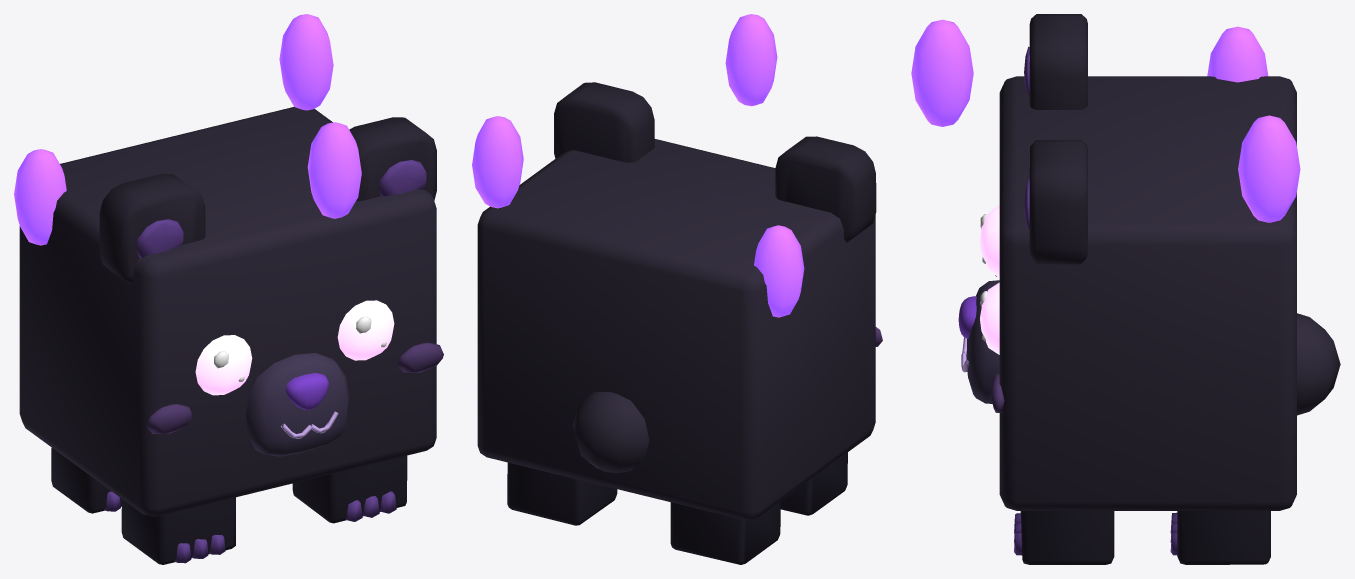
The model's file is Pet_Shade.fbx.
3 renders of one model, left to right at view 1: azimuth 30°, elevation 25°; view 2: azimuth 150°, elevation 25°; view 3: azimuth 270°, elevation 25°, orthographic. The views are drawn at different scales.
Visible parts, largest first — view 1: Pet_Shade_body, Pet_Shade_feet, Pet_Shade_ears, Pet_Shade_muzzle, Pet_Shade_eyes, Pet_Shade_acc_wisp0, Pet_Shade_acc_wisp2, Pet_Shade_acc_wisp1, Pet_Shade, Pet_Shade_toes, Pet_Shade_cute_innerear_-1, Pet_Shade_nose (+1 smaller); view 2: Pet_Shade_body, Pet_Shade_ears, Pet_Shade_feet, Pet_Shade_cute_tail, Pet_Shade_acc_wisp0, Pet_Shade_acc_wisp2, Pet_Shade_acc_wisp1; view 3: Pet_Shade_body, Pet_Shade_ears, Pet_Shade_feet, Pet_Shade_acc_wisp0, Pet_Shade_acc_wisp2, Pet_Shade_cute_tail, Pet_Shade_acc_wisp1, Pet_Shade_eyes, Pet_Shade_muzzle, Pet_Shade, Pet_Shade_toes, Pet_Shade_nose.
Boxes of the visible parts, x1=… form: Pet_Shade_body: x1=19, y1=107, x2=436, y2=516; Pet_Shade_feet: x1=51, y1=448, x2=407, y2=564; Pet_Shade_ears: x1=99, y1=117, x2=436, y2=284; Pet_Shade_muzzle: x1=246, y1=353, x2=349, y2=456; Pet_Shade_eyes: x1=195, y1=300, x2=394, y2=395; Pet_Shade_acc_wisp0: x1=279, y1=14, x2=333, y2=110; Pet_Shade_acc_wisp2: x1=307, y1=122, x2=361, y2=218; Pet_Shade_acc_wisp1: x1=14, y1=149, x2=66, y2=245; Pet_Shade: x1=356, y1=160, x2=443, y2=372; Pet_Shade_toes: x1=104, y1=491, x2=396, y2=563; Pet_Shade_cute_innerear_-1: x1=136, y1=219, x2=183, y2=258; Pet_Shade_nose: x1=285, y1=373, x2=328, y2=409; Pet_Shade_body: x1=477, y1=139, x2=875, y2=519; Pet_Shade_ears: x1=554, y1=82, x2=876, y2=242; Pet_Shade_feet: x1=507, y1=452, x2=847, y2=564; Pet_Shade_cute_tail: x1=572, y1=392, x2=649, y2=473; Pet_Shade_acc_wisp0: x1=472, y1=116, x2=523, y2=208; Pet_Shade_acc_wisp2: x1=725, y1=14, x2=777, y2=106; Pet_Shade_acc_wisp1: x1=754, y1=225, x2=804, y2=317; Pet_Shade_body: x1=999, y1=76, x2=1296, y2=510; Pet_Shade_ears: x1=1029, y1=14, x2=1087, y2=264; Pet_Shade_feet: x1=1020, y1=511, x2=1270, y2=564; Pet_Shade_acc_wisp0: x1=1238, y1=115, x2=1300, y2=222; Pet_Shade_acc_wisp2: x1=911, y1=19, x2=973, y2=126; Pet_Shade_cute_tail: x1=1297, y1=313, x2=1340, y2=415; Pet_Shade_acc_wisp1: x1=1207, y1=26, x2=1268, y2=82; Pet_Shade_eyes: x1=980, y1=205, x2=999, y2=354; Pet_Shade_muzzle: x1=966, y1=280, x2=999, y2=403; Pet_Shade: x1=980, y1=178, x2=1029, y2=412; Pet_Shade_toes: x1=1014, y1=512, x2=1177, y2=555; Pet_Shade_nose: x1=958, y1=296, x2=976, y2=338.
Size of the model in its own units: 244 by 311 by 248.
